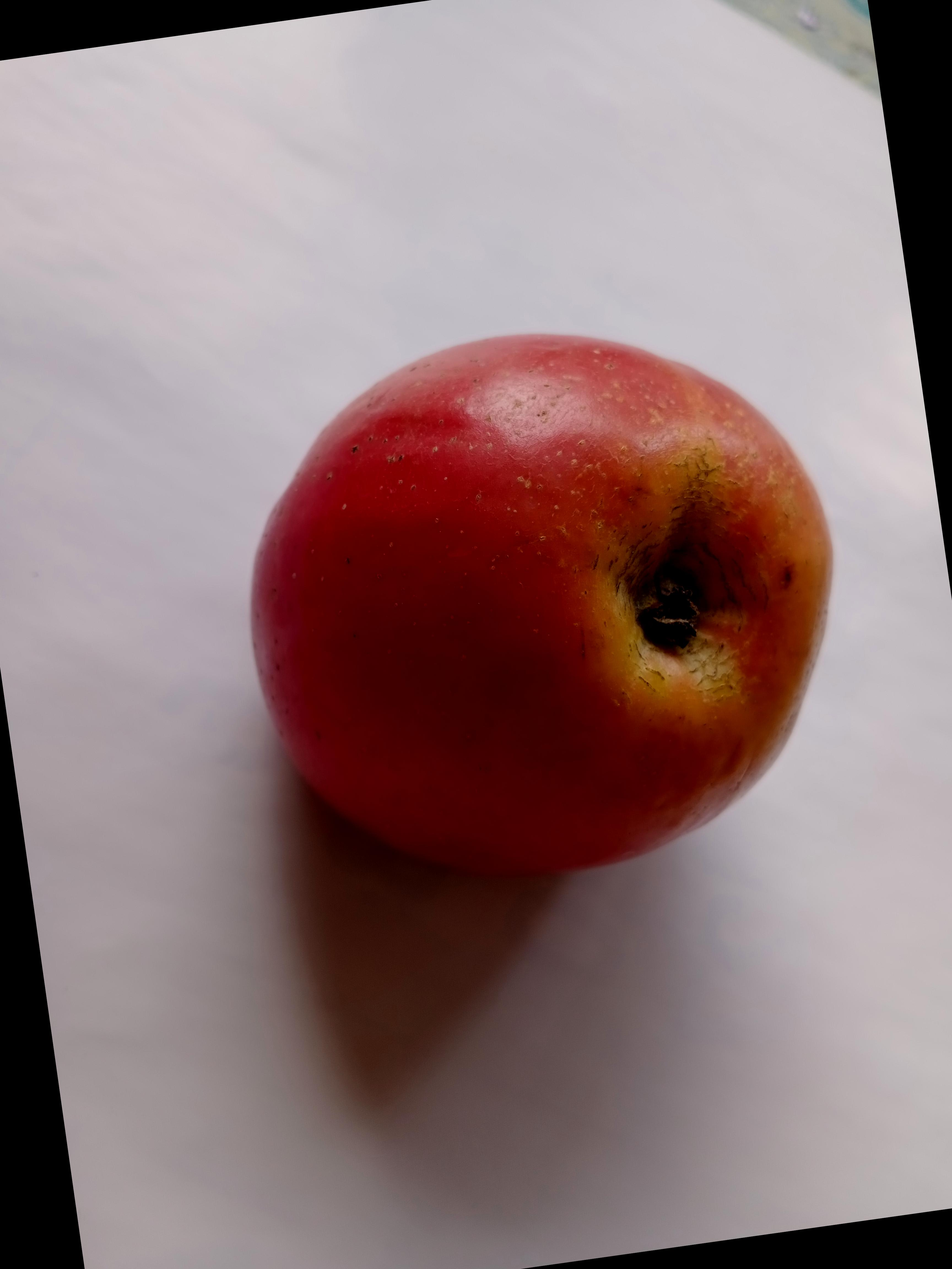Apple Ripe: (94, 362, 794, 1010)
